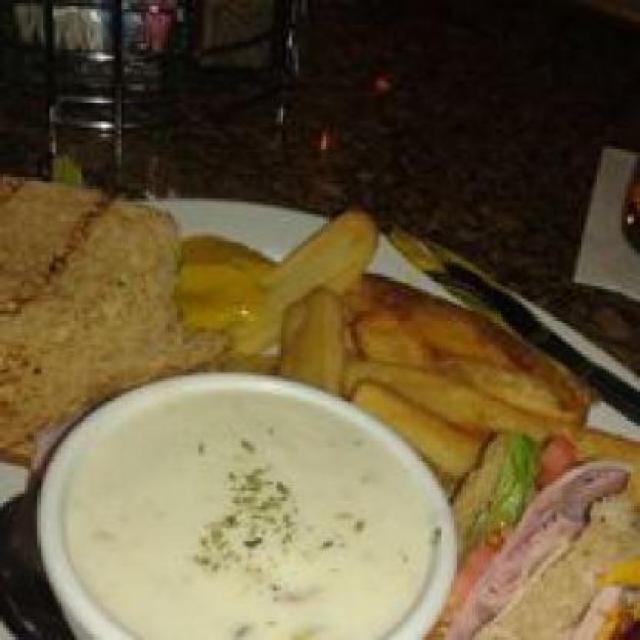clam chowder: (40, 375, 454, 637)
club sandwich: (460, 428, 637, 638)
french fries: (183, 199, 637, 466)
